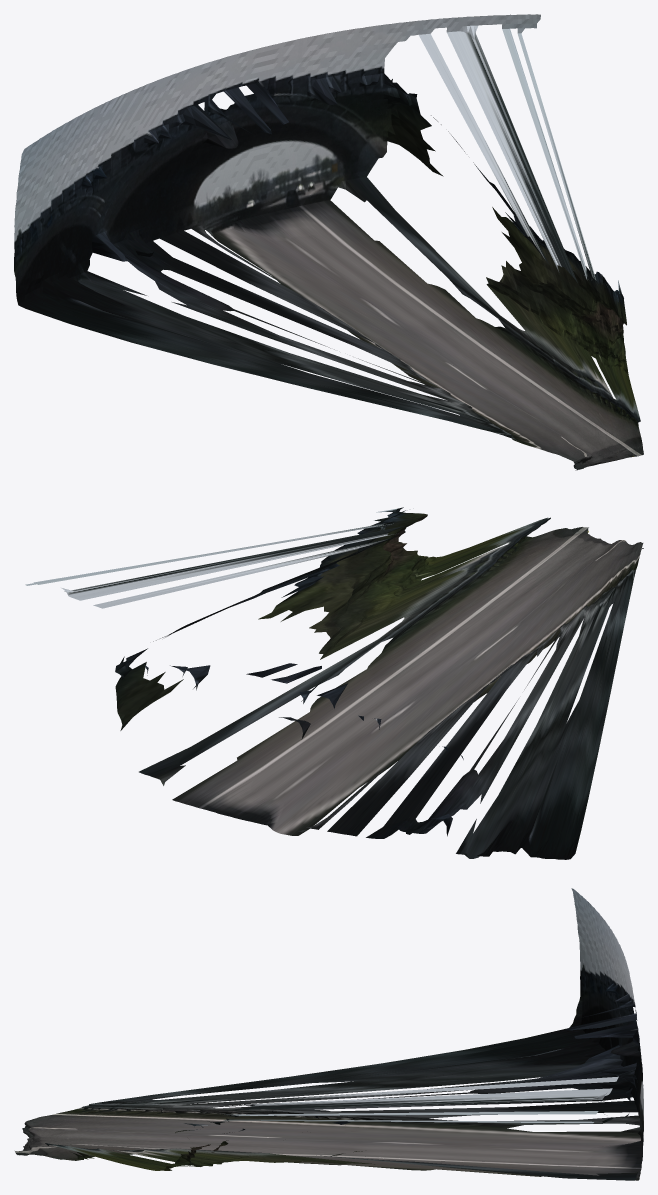
3 renders of one model, top to bottom at view 1: azimuth 30°, elevation 25°; view 2: azimuth 150°, elevation 25°; view 3: azimuth 270°, elevation 25°, orthographic. The views are drawn at different scales.
Parts seen in each view (by area): view 1: defaultobject; view 2: defaultobject; view 3: defaultobject.
Part boxes in pixels (x1,y1,x2,y2): defaultobject: [14, 14, 643, 470]; defaultobject: [25, 507, 643, 859]; defaultobject: [14, 888, 643, 1180].
Bounding box in the file's own units: 38.66 × 12.47 × 44.91.
Materials: 1 (1 with a texture image).
